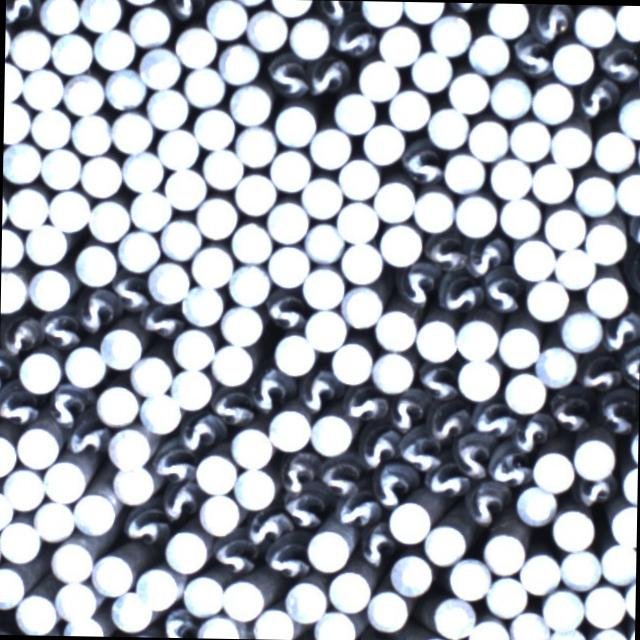tool: (282, 576, 328, 622), (306, 526, 350, 572), (56, 578, 100, 624), (526, 276, 570, 321), (162, 164, 206, 209), (428, 12, 472, 56), (268, 406, 312, 450), (454, 191, 498, 235), (529, 158, 573, 202), (72, 490, 116, 534), (2, 462, 44, 508), (585, 218, 627, 264), (489, 74, 532, 118), (467, 30, 510, 74), (552, 245, 596, 288), (542, 204, 586, 247), (328, 567, 371, 611), (540, 585, 584, 628), (179, 282, 224, 324), (218, 303, 264, 344), (233, 122, 274, 168), (5, 185, 48, 228), (456, 356, 499, 399), (49, 537, 92, 580), (455, 316, 498, 359), (387, 500, 430, 543), (552, 507, 595, 550), (551, 39, 593, 83), (534, 344, 578, 386), (487, 155, 529, 199), (532, 78, 574, 122), (412, 188, 454, 232), (356, 56, 400, 98), (573, 170, 615, 214), (23, 222, 67, 264), (502, 371, 546, 413), (230, 424, 272, 468), (180, 572, 222, 616), (266, 243, 308, 287), (360, 122, 404, 164), (304, 306, 346, 350), (14, 590, 56, 634), (18, 348, 60, 392), (90, 554, 134, 596), (584, 582, 626, 626), (164, 529, 208, 571), (79, 152, 121, 196), (138, 46, 180, 90), (212, 341, 254, 385), (422, 522, 466, 564), (508, 117, 550, 160), (442, 149, 485, 191), (333, 89, 375, 132), (446, 69, 488, 112), (378, 21, 420, 64), (309, 125, 352, 167), (245, 8, 288, 50), (310, 411, 352, 454), (29, 267, 71, 310), (329, 340, 371, 383), (498, 323, 540, 366), (512, 235, 554, 278), (175, 24, 218, 66), (498, 194, 540, 237), (147, 259, 189, 302), (572, 4, 616, 45), (467, 114, 508, 158), (198, 492, 239, 536), (232, 467, 276, 508), (267, 147, 308, 191), (139, 564, 180, 608), (200, 144, 241, 188), (342, 282, 382, 327), (288, 16, 330, 58), (130, 188, 172, 230), (220, 577, 262, 619), (110, 111, 152, 153), (550, 125, 592, 167), (62, 346, 104, 388), (228, 221, 270, 263), (228, 82, 270, 124), (16, 424, 58, 466), (482, 530, 524, 572), (121, 150, 163, 192), (573, 436, 615, 478), (110, 462, 152, 504), (109, 591, 152, 632), (93, 27, 134, 70), (31, 105, 72, 148), (338, 155, 379, 198), (411, 49, 452, 92), (218, 41, 261, 82), (86, 198, 127, 241), (9, 27, 50, 70), (388, 86, 429, 129), (183, 65, 226, 106), (530, 448, 571, 491), (147, 87, 188, 130), (273, 331, 314, 374), (274, 104, 317, 145), (118, 228, 158, 272), (594, 128, 634, 172), (190, 242, 230, 286), (51, 31, 92, 73), (74, 240, 115, 282), (39, 145, 80, 187), (426, 106, 467, 148), (170, 369, 212, 410), (560, 309, 602, 350), (372, 351, 414, 392), (415, 318, 456, 360), (381, 222, 423, 263), (338, 241, 380, 282), (519, 552, 560, 594), (48, 188, 90, 229), (559, 547, 600, 589), (447, 558, 489, 599), (194, 196, 236, 237), (391, 554, 433, 595), (194, 450, 235, 492), (158, 218, 199, 260), (42, 460, 84, 501), (104, 67, 144, 110), (102, 324, 142, 367), (486, 574, 526, 617), (128, 5, 172, 44), (234, 168, 273, 212), (264, 202, 305, 243), (22, 66, 62, 108), (95, 385, 137, 425), (432, 595, 472, 637), (301, 266, 343, 306), (153, 128, 195, 168), (128, 354, 170, 394), (374, 179, 414, 221), (368, 588, 408, 630), (516, 484, 556, 526), (171, 328, 213, 368), (191, 108, 233, 148), (302, 222, 342, 264), (0, 518, 38, 562), (61, 72, 102, 112), (32, 499, 73, 539), (585, 276, 626, 316), (374, 308, 414, 349), (70, 111, 110, 152), (108, 424, 148, 465), (302, 174, 341, 216), (228, 262, 267, 303), (2, 142, 40, 184), (205, 0, 247, 38), (598, 542, 636, 584), (336, 202, 376, 241), (486, 2, 529, 36), (252, 606, 295, 640), (142, 394, 180, 432), (37, 0, 79, 33), (312, 610, 357, 640), (79, 0, 121, 30), (0, 562, 26, 608), (3, 102, 31, 144), (509, 610, 548, 640), (198, 612, 238, 639), (0, 270, 27, 310), (615, 169, 640, 212), (466, 615, 509, 640), (610, 503, 637, 542), (361, 1, 402, 26), (1, 224, 24, 266), (62, 612, 102, 636), (617, 95, 640, 136), (402, 1, 444, 23), (614, 5, 640, 40), (4, 61, 22, 102), (587, 624, 628, 640), (0, 433, 16, 473), (545, 625, 586, 640)
tool_b: (44, 380, 93, 429), (400, 137, 448, 185), (57, 418, 111, 460), (154, 480, 202, 527), (75, 282, 118, 334), (264, 533, 310, 581), (119, 502, 169, 546), (546, 386, 590, 435), (175, 403, 218, 452), (0, 309, 43, 357), (488, 448, 536, 491), (152, 434, 193, 484), (595, 386, 639, 432), (507, 33, 553, 77), (593, 39, 640, 82), (132, 298, 182, 338), (372, 464, 416, 509), (0, 381, 42, 428), (466, 479, 506, 528), (400, 428, 442, 474), (422, 460, 470, 500), (266, 56, 308, 101), (452, 434, 493, 480), (250, 368, 296, 409), (316, 457, 363, 497), (356, 428, 400, 470), (477, 270, 521, 312), (240, 510, 288, 548), (598, 308, 640, 351), (576, 354, 618, 396), (112, 270, 153, 313), (352, 524, 392, 568), (266, 292, 306, 336), (396, 262, 435, 307), (329, 490, 379, 525), (332, 21, 378, 59), (414, 358, 456, 399), (528, 3, 572, 42), (436, 273, 480, 311), (422, 235, 467, 272), (41, 308, 82, 348), (285, 490, 324, 532), (578, 76, 620, 115), (300, 366, 338, 409), (343, 387, 389, 422), (468, 238, 508, 278), (471, 399, 512, 438), (310, 58, 348, 100), (277, 454, 315, 495), (212, 388, 253, 426), (212, 535, 250, 575), (430, 403, 468, 442), (386, 391, 423, 431), (576, 474, 620, 506), (514, 413, 548, 454), (161, 606, 197, 638), (311, 0, 357, 23), (160, 0, 209, 21), (621, 338, 640, 390), (0, 349, 17, 390)
